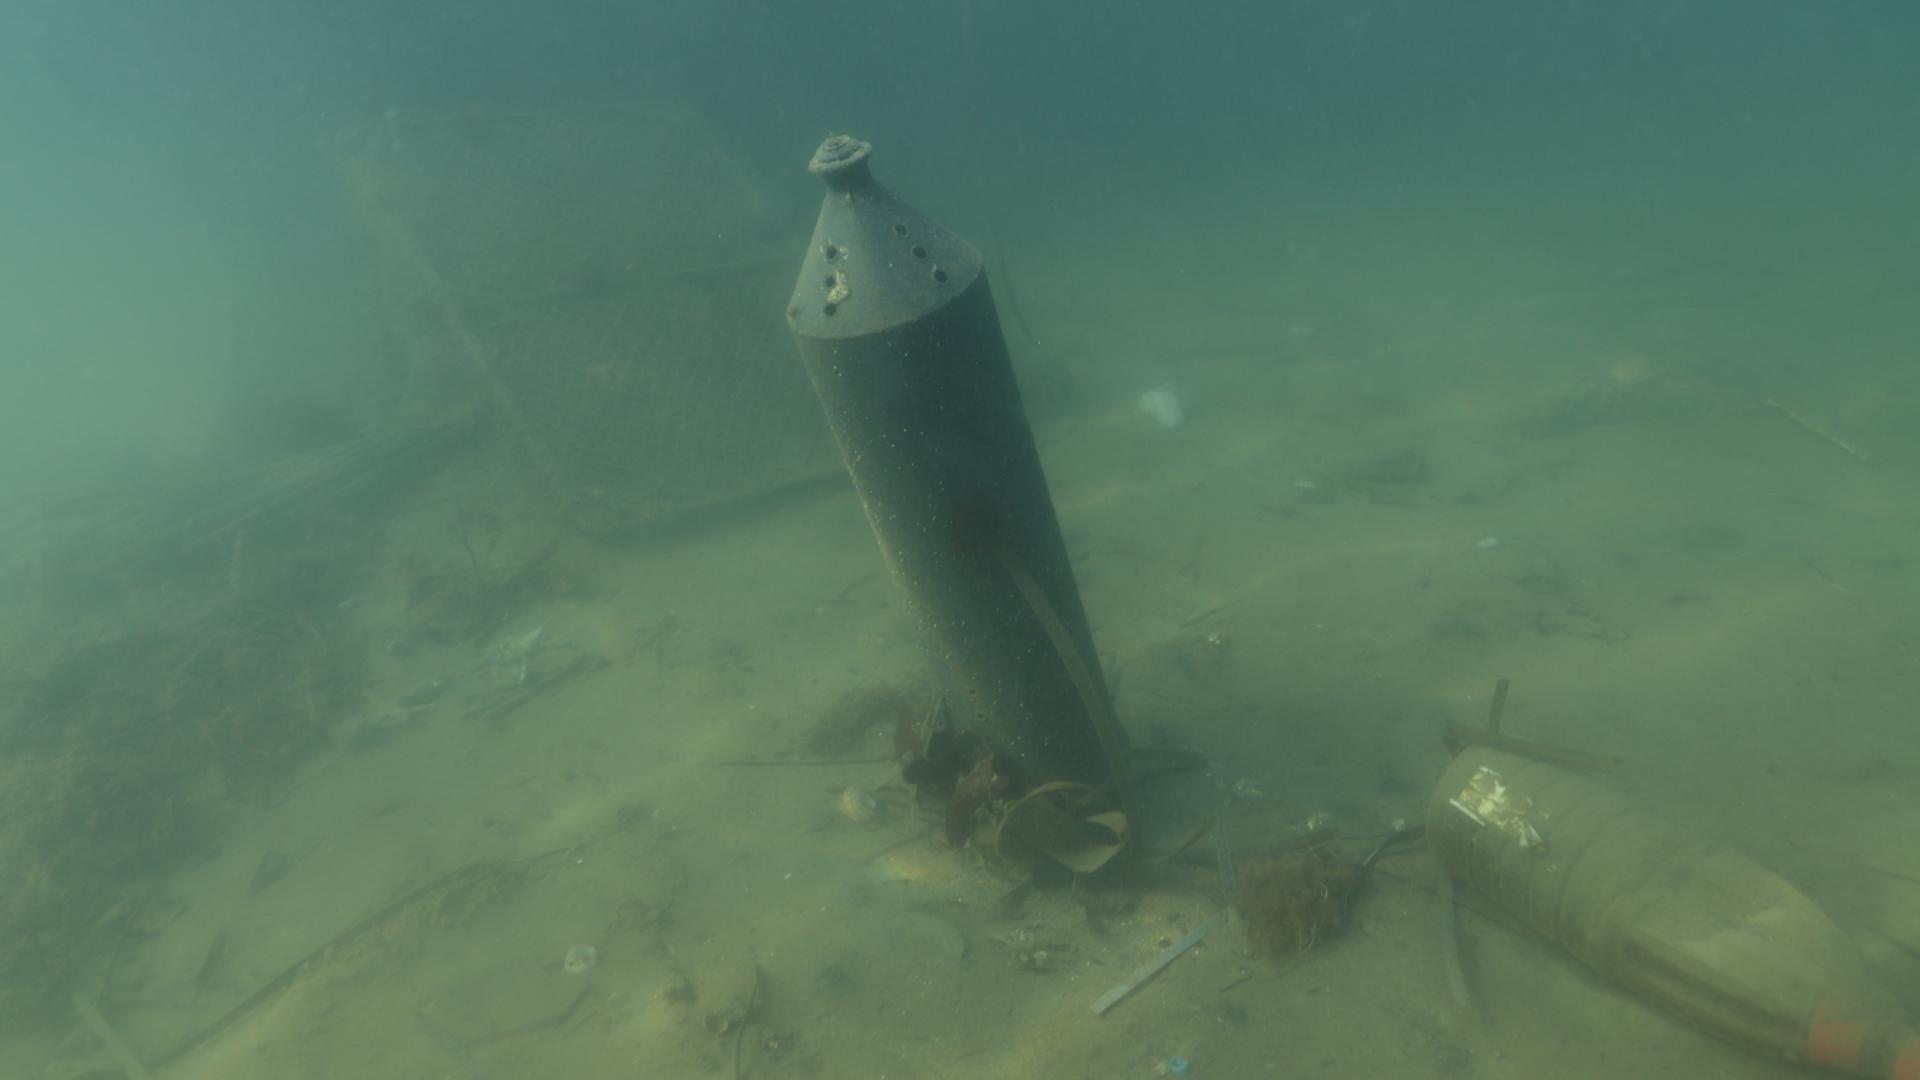eel fish trap: (782, 131, 1131, 800)
rectangular fish trap: (315, 98, 837, 531)
